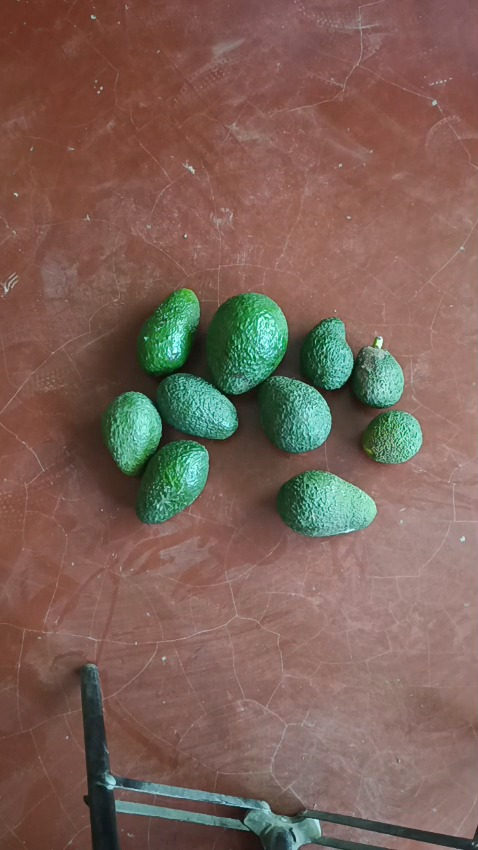Primera: (206, 293, 289, 393)
Segunda: (277, 470, 377, 536), (135, 440, 210, 522), (257, 375, 332, 453), (136, 288, 202, 376), (156, 373, 239, 440), (101, 391, 162, 475)
Tercera: (299, 318, 354, 392), (351, 343, 405, 408), (362, 410, 423, 464)
